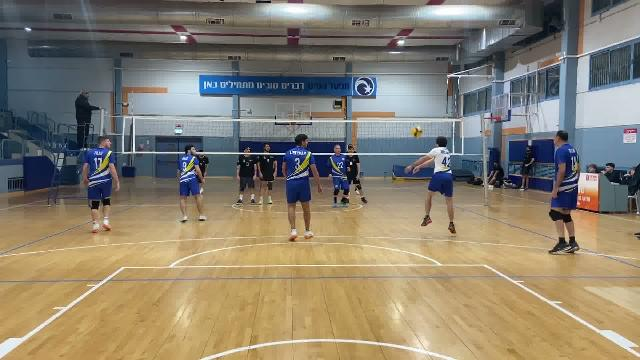ball: (410, 124, 424, 140)
